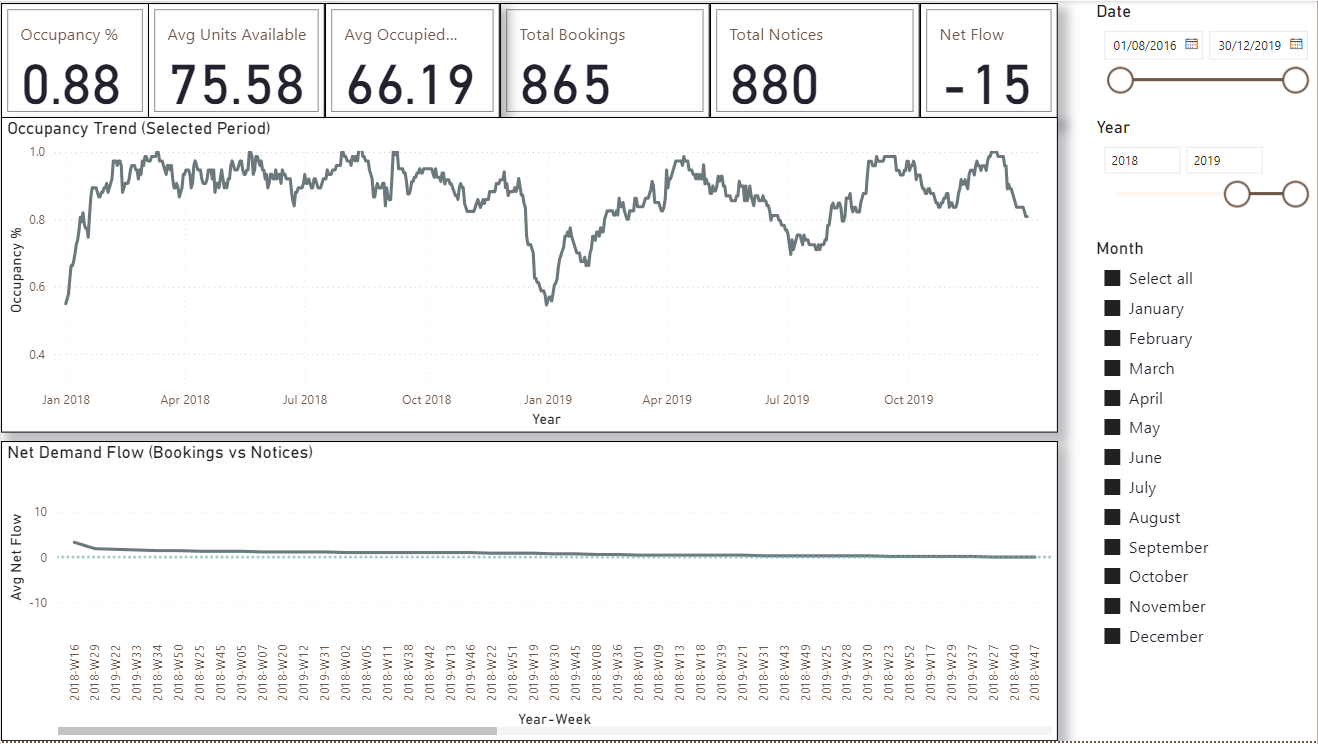

Layout of this report page (visuals, bound fields, positions):
{"tool":"powerbi","page":{"name":"Operations Overview","canvas":[1280,720],"ordinal":0},"visuals":[{"type":"cardVisual","fields":{"Data":["Measueres.Occupancy %"]},"box":[0,1.9,144.9,112.8],"z":0},{"type":"cardVisual","fields":{"Data":["Measueres.Total Bookings"]},"box":[485.3,1.9,204.3,112.8],"z":1000},{"type":"cardVisual","fields":{"Data":["Measueres.Total Notices"]},"box":[689.6,1.9,204.3,112.8],"z":2000},{"type":"cardVisual","fields":{"Data":["Measueres.Net Flow"]},"box":[893.9,1.9,134.2,112.8],"z":3000},{"type":"slicer","title":"Date","fields":{"Values":["DateTable.Date"]},"box":[1060.2,0,219.8,112.8],"z":4000},{"type":"slicer","title":"Year","fields":{"Values":["DateTable.Year"]},"box":[1060.2,112.8,219.8,108],"z":5000},{"type":"slicer","title":"Month","fields":{"Values":["DateTable.Month Name"]},"box":[1060.2,230.5,219.8,459.1],"z":6000},{"type":"cardVisual","fields":{"Data":["Measueres.Avg Units Available"]},"box":[143,1.9,172.2,112.8],"z":7000},{"type":"cardVisual","fields":{"Data":["Measueres.Avg Occupied Units"]},"box":[315.1,1.9,170.2,112.8],"z":8000},{"type":"lineChart","title":"Occupancy Trend (Selected Period)","fields":{"Y":["Measueres.Occupancy %"],"Category":["DateTable.Date.Variation.Date Hierarchy.Year","DateTable.Date.Variation.Date Hierarchy.Quarter","DateTable.Date.Variation.Date Hierarchy.Month","DateTable.Date.Variation.Date Hierarchy.Day"]},"box":[0,112.8,1028.1,307.4],"z":9000},{"type":"lineChart","title":"Net Demand Flow (Bookings vs Notices)","fields":{"Y":["Measure.Avg Net Flow"],"Category":["DateTable.Year-Week"]},"box":[0,428,1028.1,291.8],"z":10000}]}

Visuals, with their boxes in screenshot pixels (x1, y1, x2, y2), scaled from the page's 1280x720 canvas onto the 1318x744 screenshot:
cardVisual - Measueres.Occupancy %: BBox(0, 2, 149, 119)
cardVisual - Measueres.Total Bookings: BBox(500, 2, 710, 119)
cardVisual - Measueres.Total Notices: BBox(710, 2, 920, 119)
cardVisual - Measueres.Net Flow: BBox(920, 2, 1059, 119)
"Date" slicer: BBox(1092, 0, 1317, 117)
"Year" slicer: BBox(1092, 117, 1317, 228)
"Month" slicer: BBox(1092, 238, 1317, 713)
cardVisual - Measueres.Avg Units Available: BBox(147, 2, 325, 119)
cardVisual - Measueres.Avg Occupied Units: BBox(324, 2, 500, 119)
"Occupancy Trend (Selected Period)" lineChart: BBox(0, 117, 1059, 434)
"Net Demand Flow (Bookings vs Notices)" lineChart: BBox(0, 442, 1059, 743)
